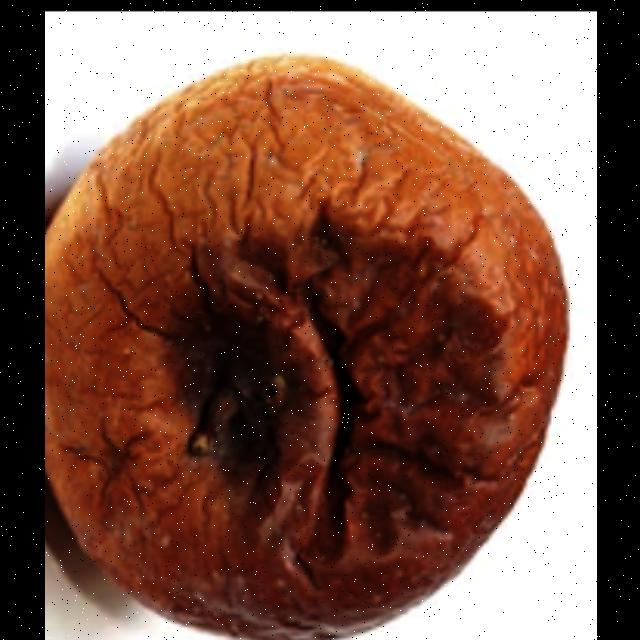Apel Tidak Segar: (45, 50, 578, 640)
